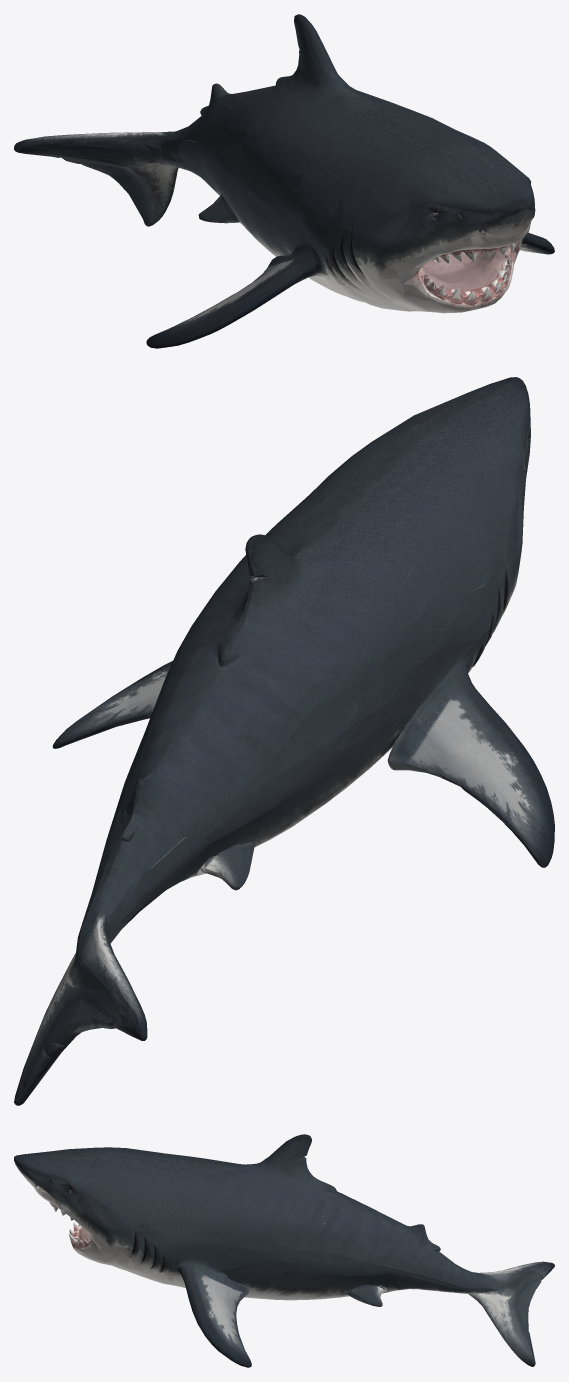
The model's file is shark-meshy-v3.glb.
3 renders of one model, top to bottom at view 1: azimuth 30°, elevation 25°; view 2: azimuth 150°, elevation 25°; view 3: azimuth 270°, elevation 25°, orthographic. The views are drawn at different scales.
Visible parts, largest first — view 1: Mesh_0; view 2: Mesh_0; view 3: Mesh_0.
Boxes of the visible parts, box(x1,y1,x2,y2) form: Mesh_0: box(14, 14, 554, 348); Mesh_0: box(14, 377, 554, 1105); Mesh_0: box(14, 1134, 554, 1367).
Bounding box in the file's own units: 1.08 × 0.876 × 1.9.
1 material, 1 textured.
